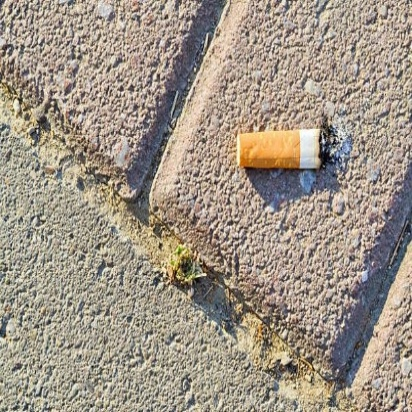cigarette: (232, 127, 356, 178)
